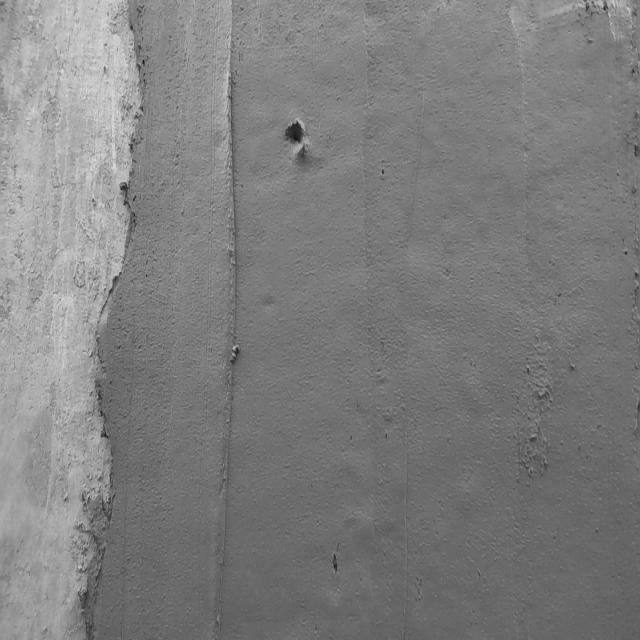trowels marks: (211, 0, 245, 640), (356, 2, 381, 640), (506, 16, 536, 334), (396, 409, 416, 640)
